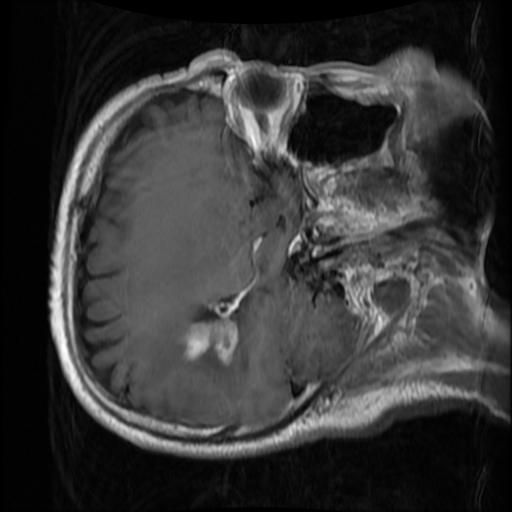glioma: (182, 319, 238, 366)
